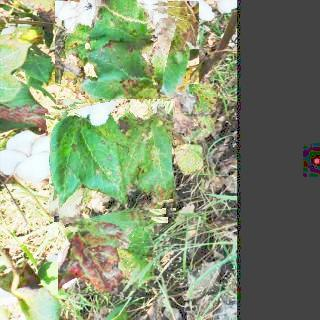blight: (49, 99, 175, 224), (65, 0, 187, 104), (59, 215, 145, 296)
